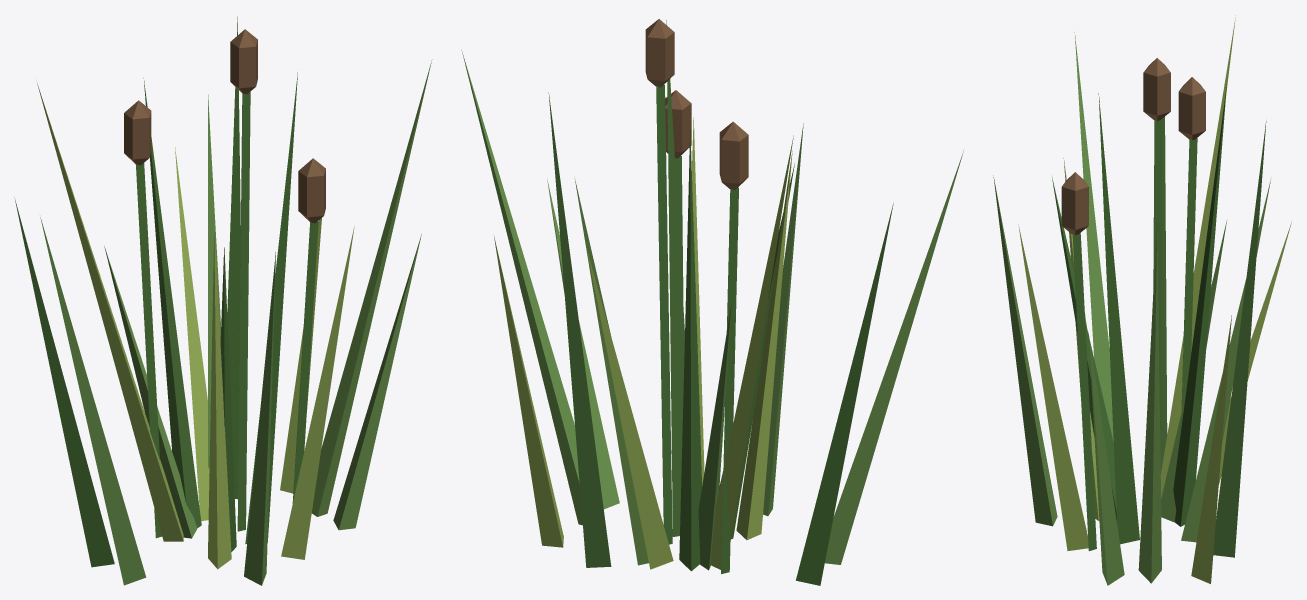
Rendered from reeds.glb.
The picture shows the model from 3 angles, left to right: view 1: azimuth 30°, elevation 25°; view 2: azimuth 150°, elevation 25°; view 3: azimuth 270°, elevation 25°; orthographic projection. The views are drawn at different scales.
Visible parts, largest first — view 1: reeds; view 2: reeds; view 3: reeds.
Boxes of the visible parts, left/top/right/bottom form: reeds: left=14, top=16, right=432, bottom=585; reeds: left=461, top=19, right=963, bottom=585; reeds: left=993, top=15, right=1291, bottom=585.
Bounding box in the file's own units: 1.09 × 1.2 × 0.666.
